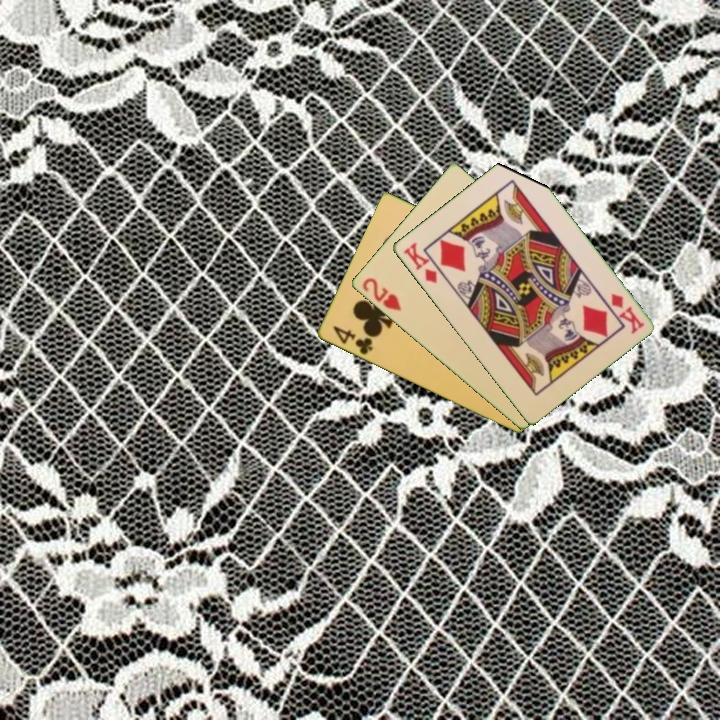2h: (358, 274, 404, 314)
4c: (329, 322, 375, 358)
Kd: (399, 239, 440, 287), (607, 290, 647, 337)
